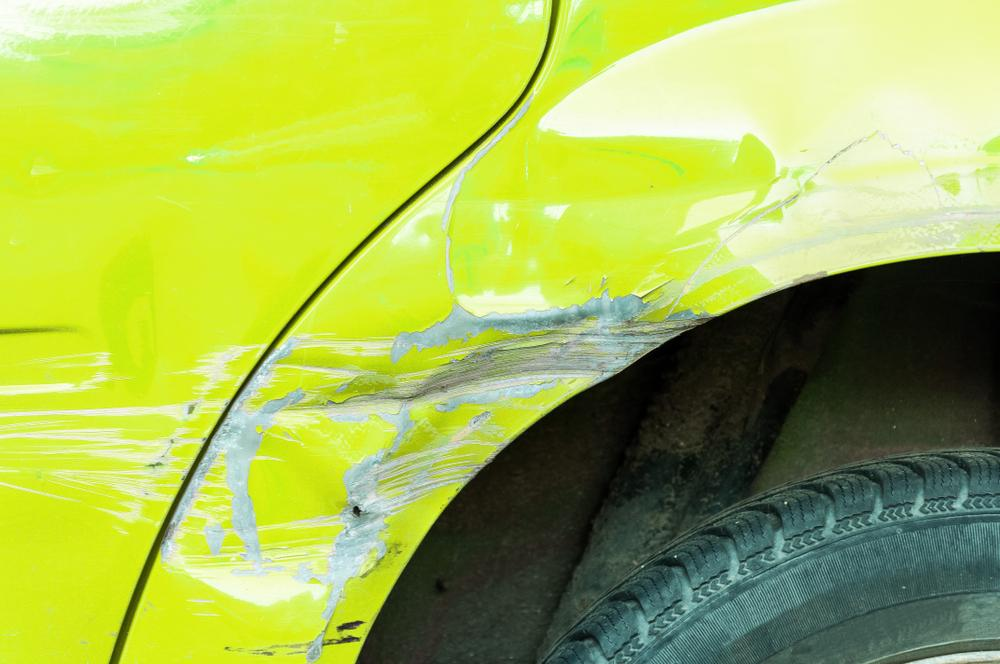dent: (161, 298, 691, 604)
scratch: (0, 342, 266, 530), (692, 135, 1000, 290), (228, 615, 374, 664)
